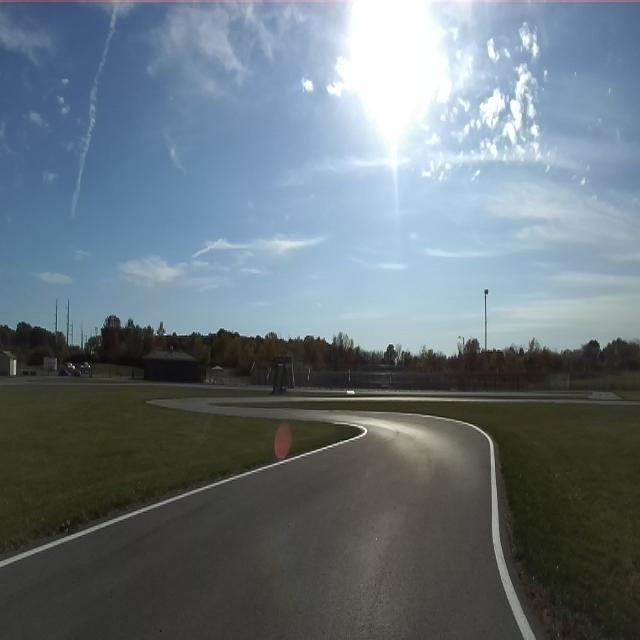white-line: (0, 422, 367, 568), (376, 411, 536, 639)
